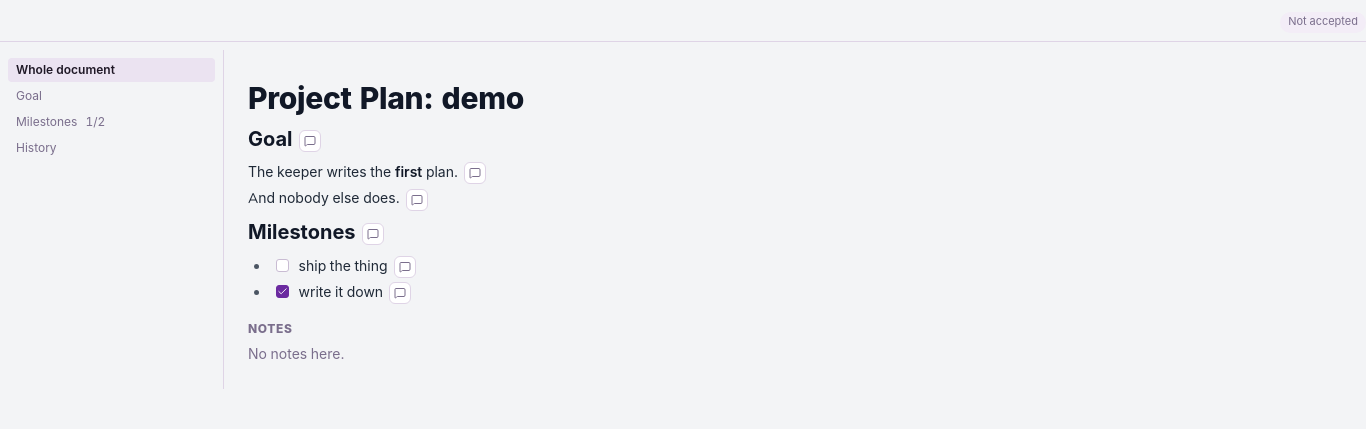
a paragraph opens as its own raw Markdown and stages the whole section › seeds the field with the block, not the section
Expected: the element with test id "plan-body" is shown, [248,78,524,304]
Click the element showing "The keeper writes the first plan." at [367, 173], box [248,162,486,184]
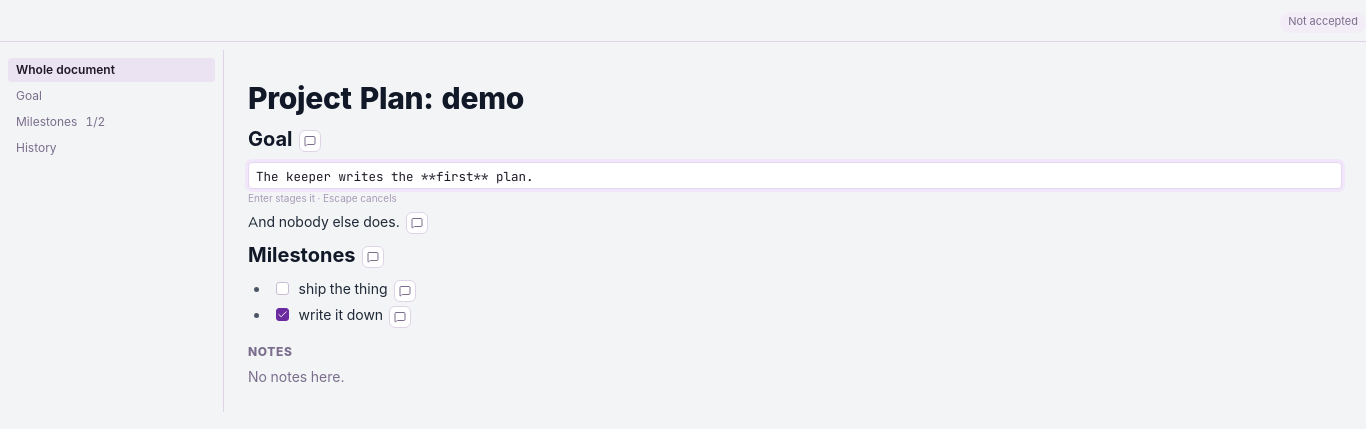
Expected: the text box named "Markdown for this paragraph" holds "The keeper writes the **first** plan.", [248,162,1342,188]
